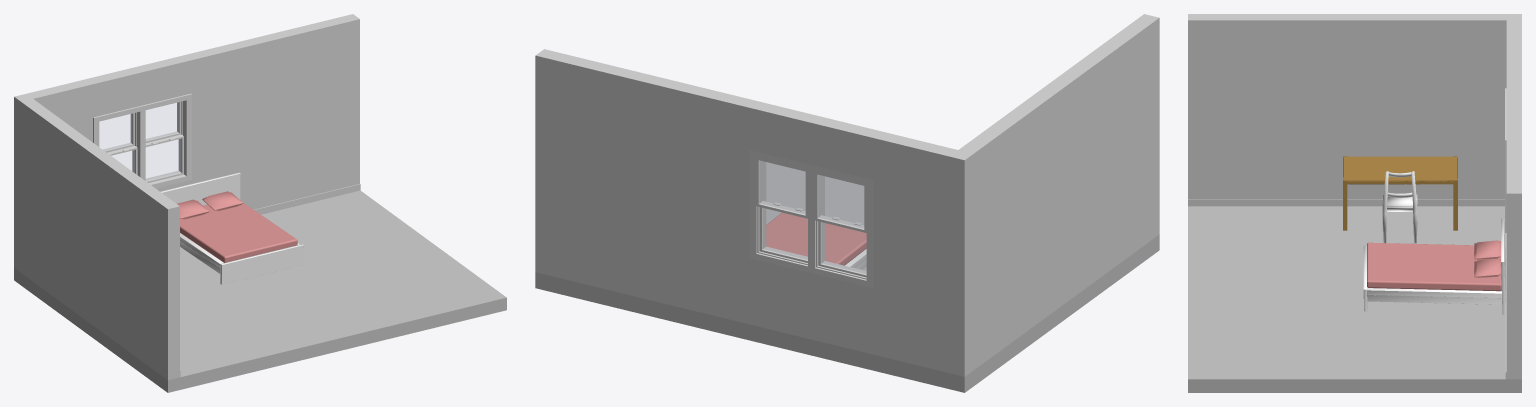
Rendered from L14_W18_furniture2_circulation1.glb.
The picture shows the model from 3 angles, left to right: view 1: azimuth 30°, elevation 25°; view 2: azimuth 150°, elevation 25°; view 3: azimuth 270°, elevation 25°; orthographic projection. The views are drawn at different scales.
Size of the model in its own units: 224 by 116 by 176.
